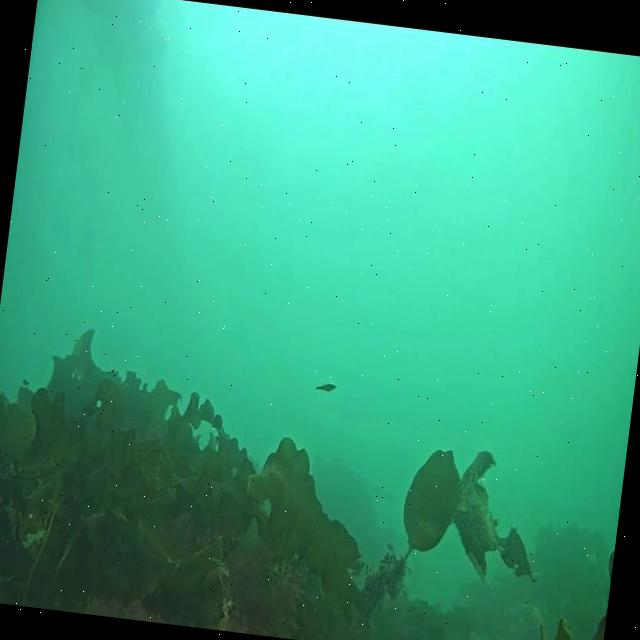fish: (314, 380, 338, 395)
